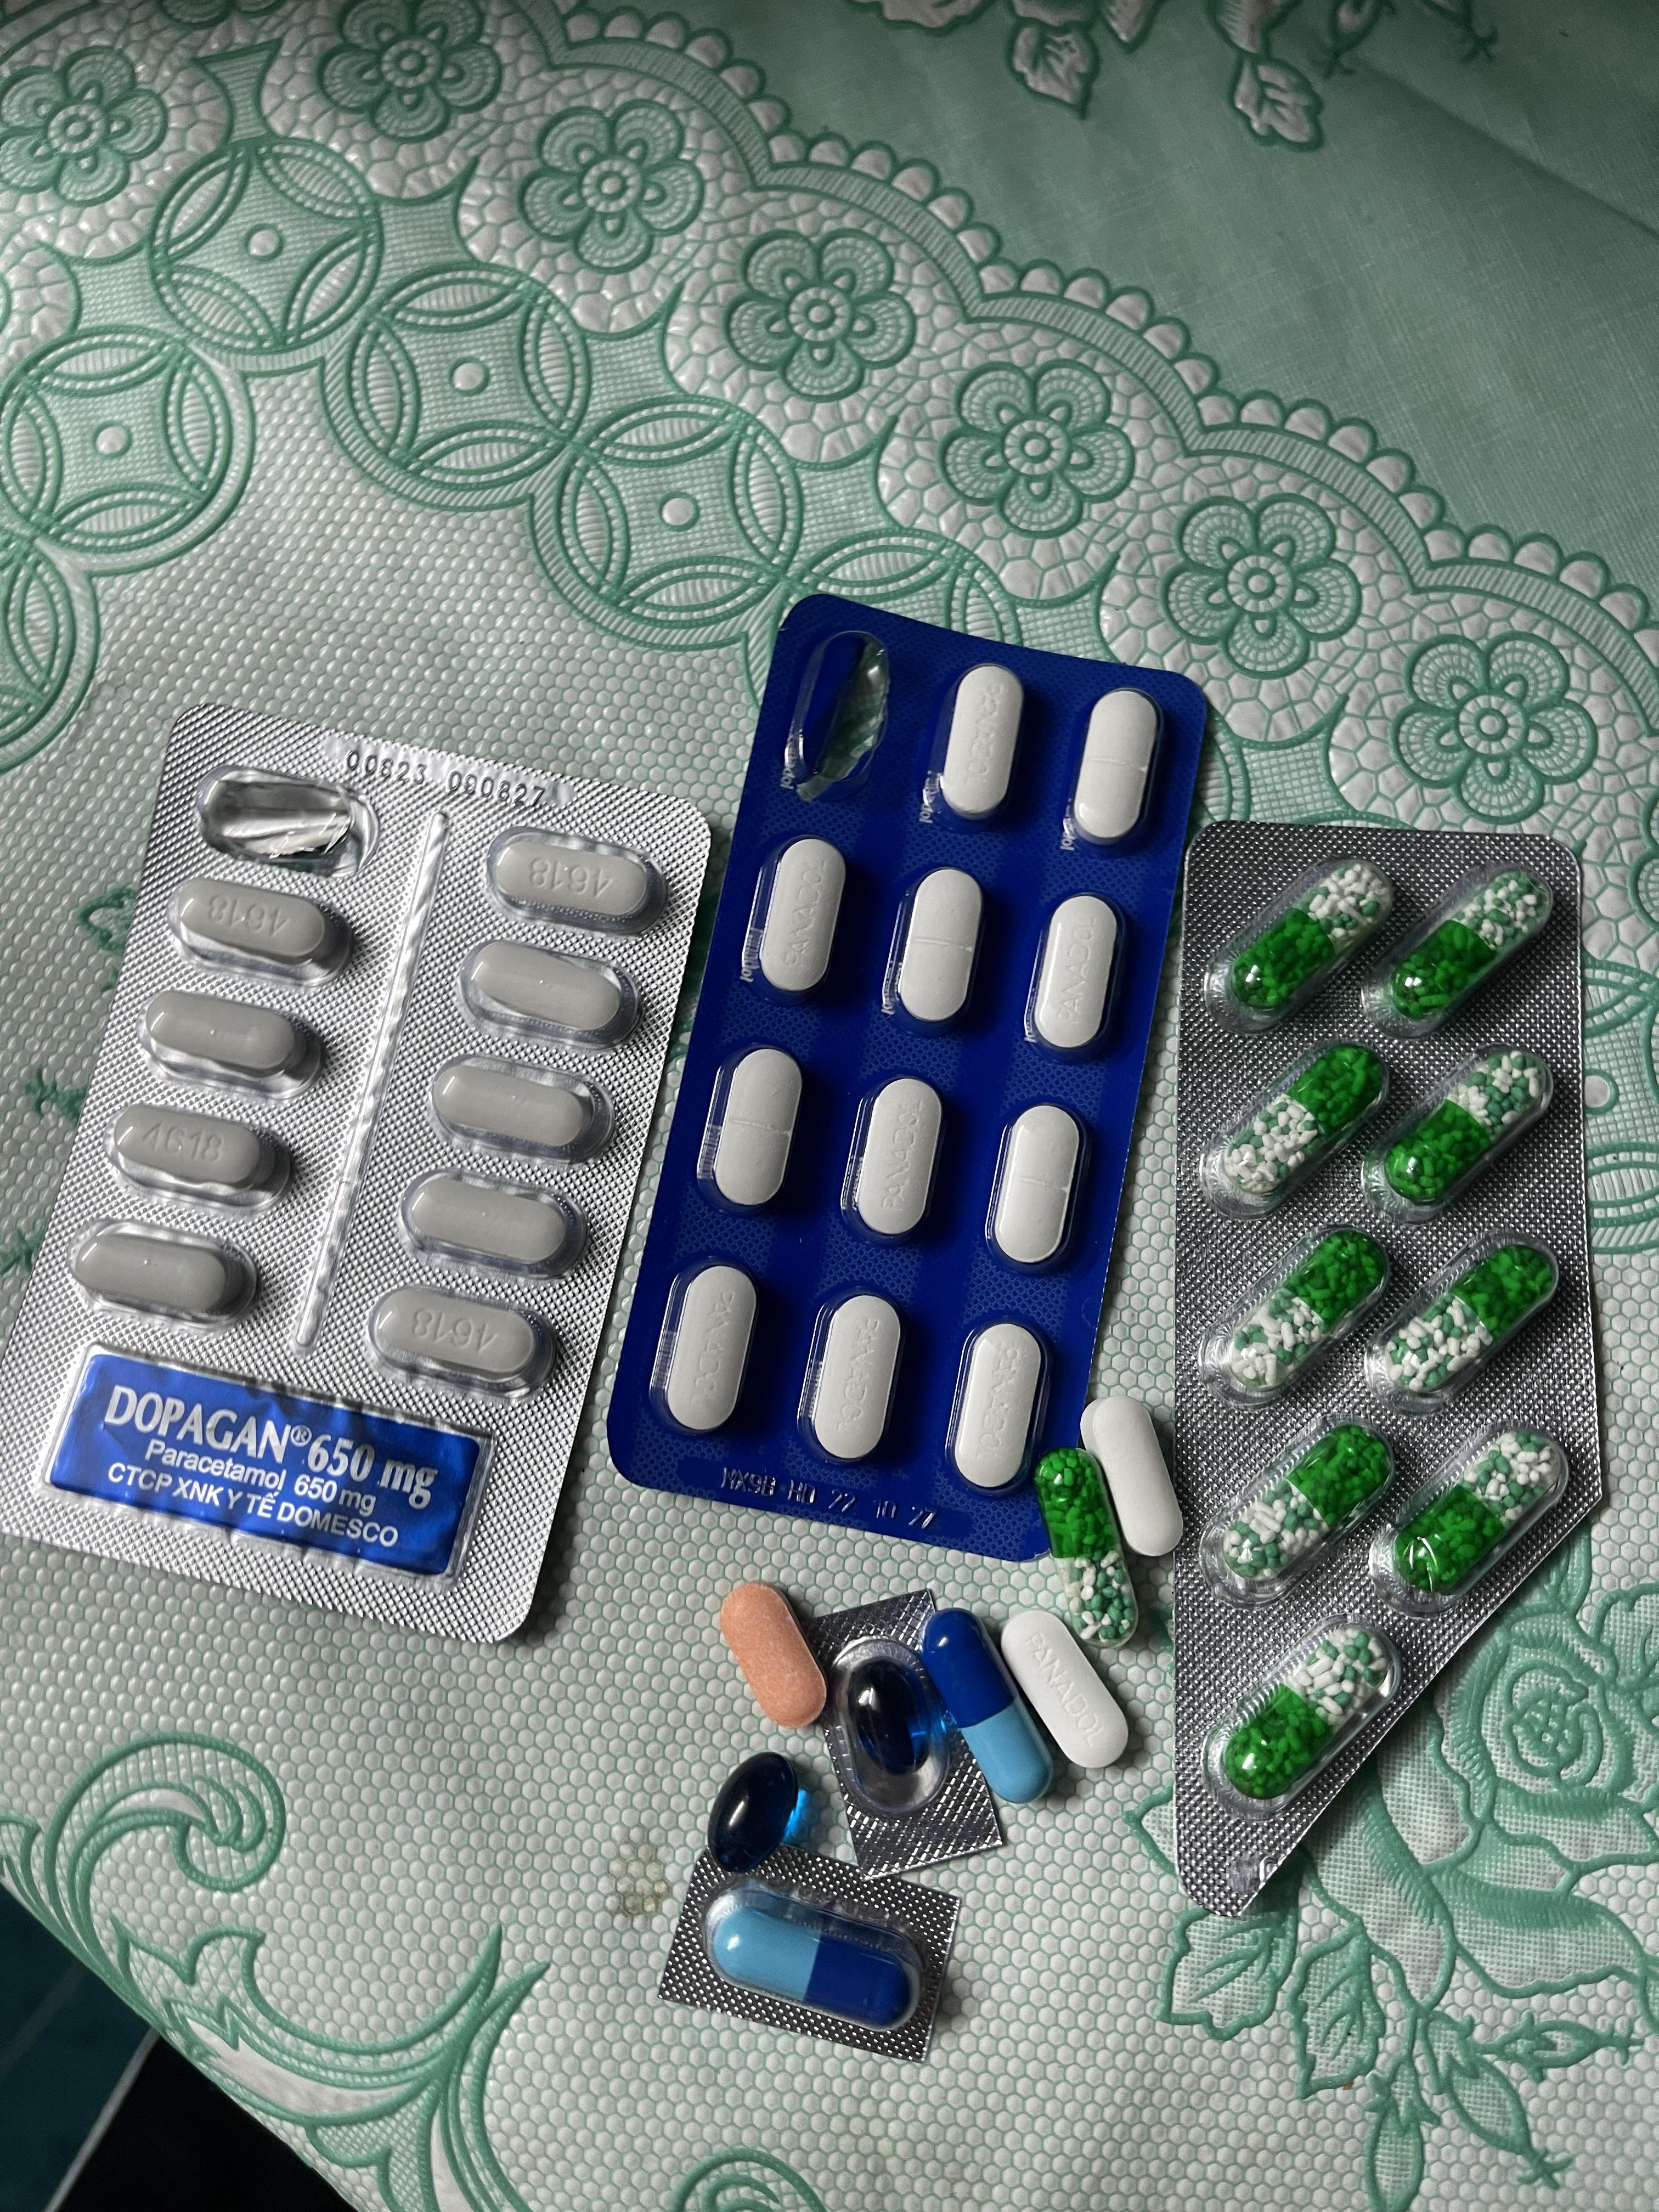Lincomyxin_500mg: (704, 1751, 815, 1876), (843, 1656, 934, 1790)
Loratadine_10mg: (718, 1586, 829, 1728)
Paracetamol_350mg: (1000, 1615, 1125, 1772), (988, 1099, 1092, 1273), (656, 1262, 758, 1434), (806, 1291, 905, 1463), (847, 1076, 949, 1242), (949, 1321, 1050, 1487), (1029, 896, 1125, 1065), (709, 1048, 803, 1214), (752, 838, 847, 1001), (892, 869, 985, 1032), (1069, 691, 1160, 850), (934, 665, 1025, 824)
Paracetamol_500mg: (363, 1284, 554, 1403), (68, 1218, 260, 1330), (108, 1099, 292, 1212), (399, 1170, 585, 1282), (139, 990, 324, 1101), (459, 938, 637, 1053), (167, 876, 349, 986), (430, 1053, 612, 1163), (487, 828, 665, 939), (1081, 1399, 1183, 1554)
Paracetamol_650mg: (1219, 1223, 1397, 1404), (1393, 1426, 1566, 1594), (1223, 1628, 1391, 1798), (1224, 1421, 1392, 1588), (1380, 1246, 1558, 1404), (1381, 1050, 1549, 1203), (1384, 873, 1552, 1024), (1226, 1049, 1388, 1202), (1231, 864, 1394, 1013), (1032, 1451, 1136, 1632)
pill: (704, 1878, 927, 2029), (928, 1610, 1056, 1803)
